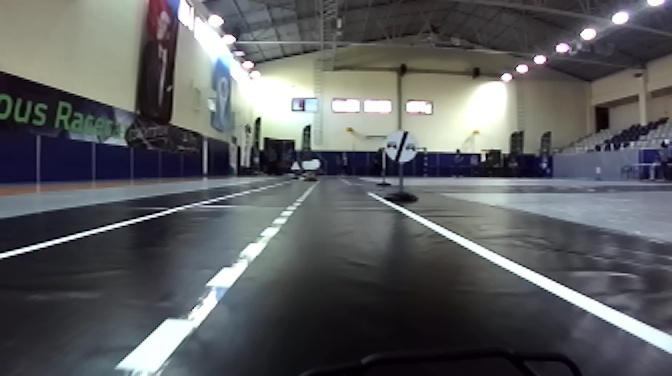sollama_serbest: (383, 130, 418, 163)
